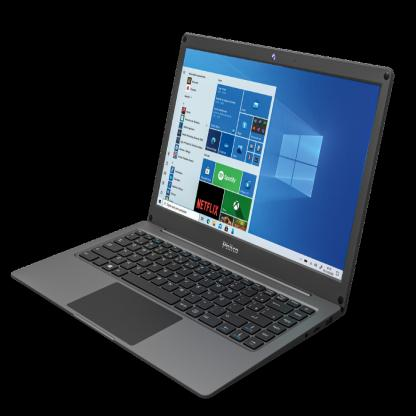NOTEBOOK: (16, 27, 416, 410)
